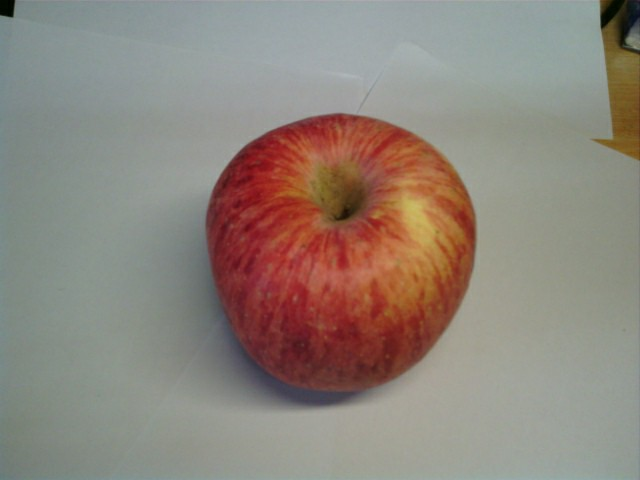normal_apple: (206, 114, 477, 394)
